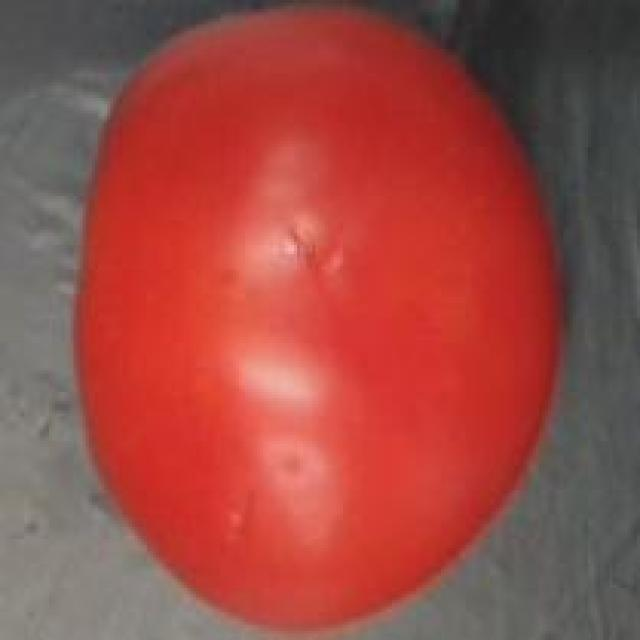ripe tomato: (74, 0, 566, 640)
